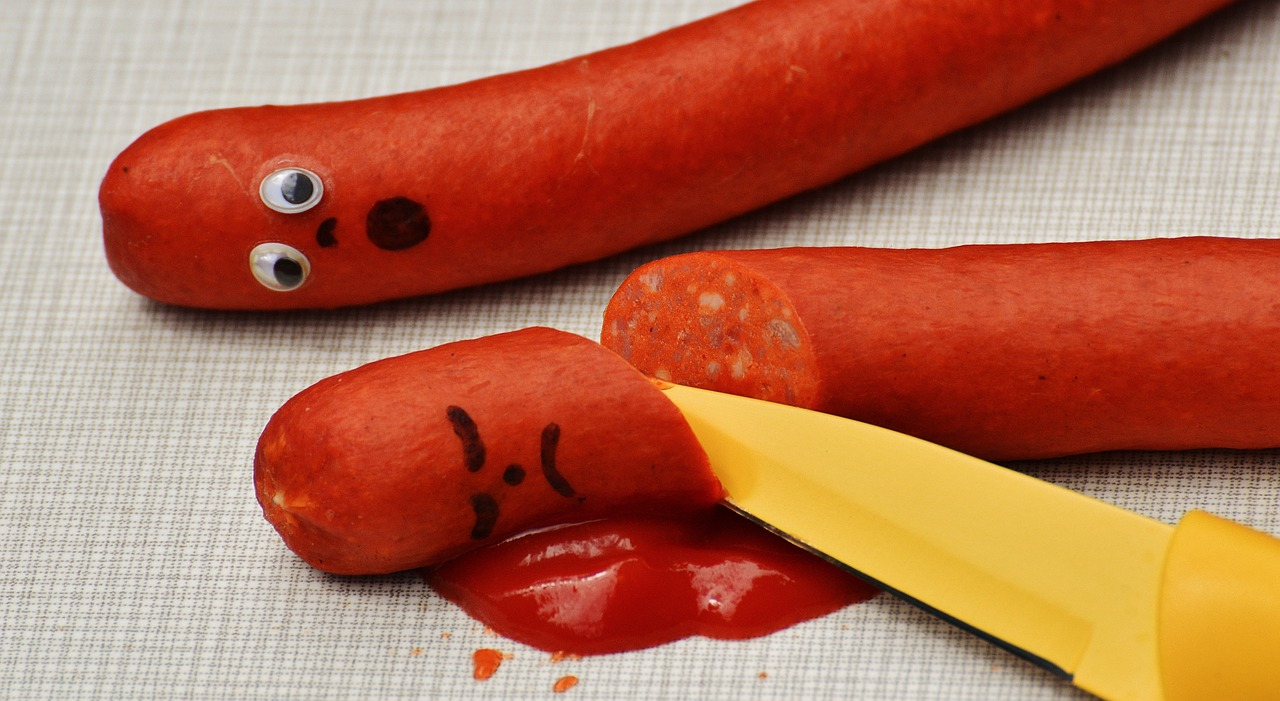knife: (521, 328, 1280, 701)
